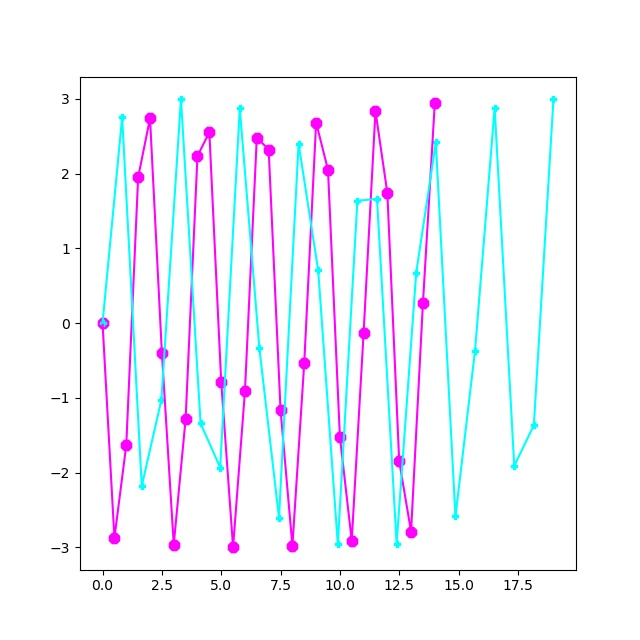octagon: (97, 317, 110, 330), (108, 532, 121, 545), (120, 439, 133, 452), (132, 171, 145, 184), (144, 112, 157, 125), (156, 347, 169, 360), (168, 539, 181, 552), (180, 413, 193, 426), (191, 150, 204, 163), (203, 126, 216, 139), (215, 376, 228, 389), (227, 541, 240, 554), (239, 385, 252, 398), (251, 132, 264, 145), (263, 144, 276, 157), (275, 404, 288, 417), (286, 540, 299, 553), (298, 357, 311, 370), (310, 117, 323, 130), (322, 164, 335, 177), (334, 431, 347, 444), (346, 535, 359, 548), (358, 327, 371, 340), (369, 105, 382, 118), (381, 187, 394, 200), (393, 455, 406, 468), (405, 526, 418, 539), (417, 297, 430, 310), (429, 97, 442, 110)
plus: (99, 319, 108, 328), (118, 113, 127, 122), (138, 482, 147, 491), (157, 396, 166, 405), (177, 95, 186, 104), (197, 419, 206, 428), (216, 464, 225, 473), (236, 104, 245, 113), (255, 344, 264, 353), (275, 514, 284, 523), (295, 140, 304, 149), (314, 266, 323, 275), (334, 540, 343, 549), (353, 197, 362, 206), (373, 195, 382, 204), (393, 540, 402, 549), (412, 269, 421, 278), (432, 138, 441, 147), (451, 512, 460, 521), (471, 347, 480, 356), (491, 104, 500, 113), (510, 462, 519, 471), (530, 421, 539, 430), (549, 95, 558, 104)
